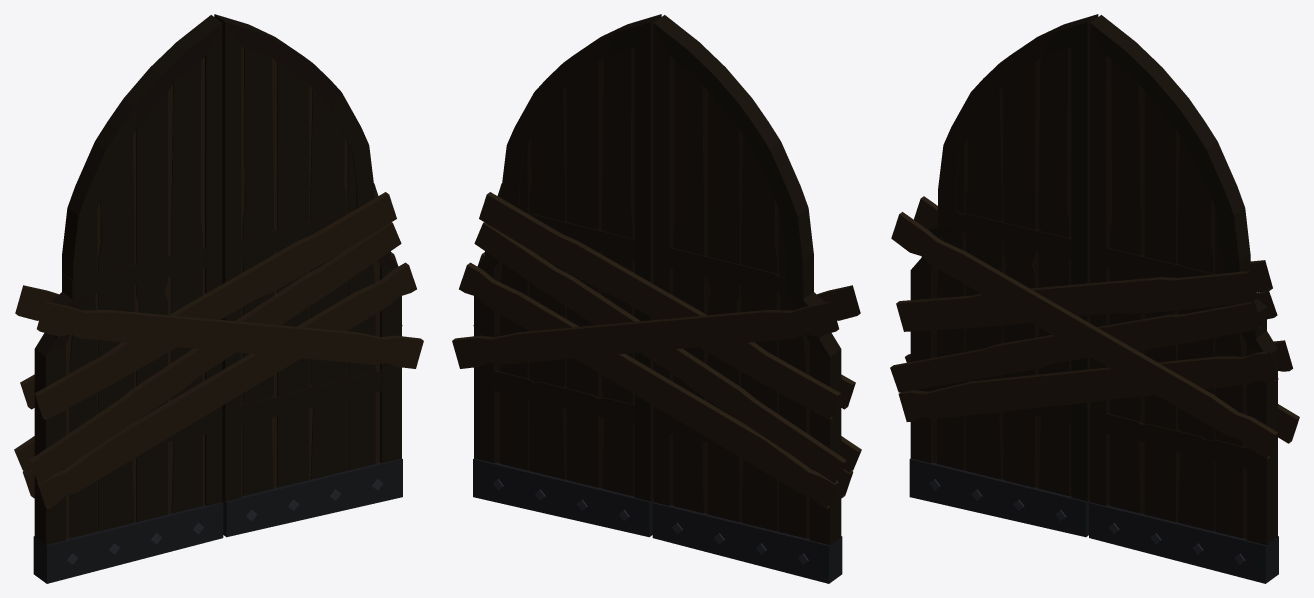
The model's file is Doors_GothicArch_Covered.obj.
3 renders of one model, left to right at view 1: azimuth 30°, elevation 25°; view 2: azimuth 150°, elevation 25°; view 3: azimuth 330°, elevation 25°, orthographic.
Parts seen in each view (by area): view 1: Doors_GothicArch_Covered_Cylinder.001; view 2: Doors_GothicArch_Covered_Cylinder.001; view 3: Doors_GothicArch_Covered_Cylinder.001.
Part boxes in pixels (bbox=[...]): Doors_GothicArch_Covered_Cylinder.001: bbox=[14, 14, 423, 583]; Doors_GothicArch_Covered_Cylinder.001: bbox=[452, 14, 861, 583]; Doors_GothicArch_Covered_Cylinder.001: bbox=[890, 14, 1299, 583].
Bounding box in the file's own units: 2.52 × 3.21 × 0.2789.
